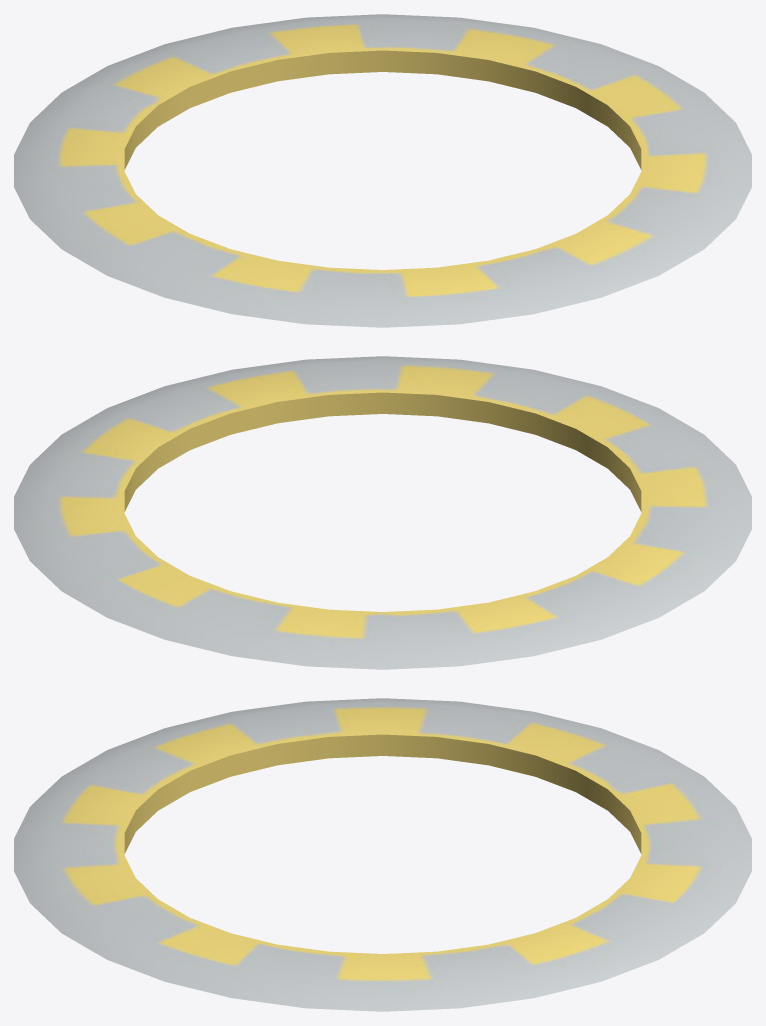
File: CHAKRAM.fbx
3 renders of one model, top to bottom at view 1: azimuth 30°, elevation 25°; view 2: azimuth 150°, elevation 25°; view 3: azimuth 270°, elevation 25°, orthographic.
Visible parts, largest first — view 1: Torus; view 2: Torus; view 3: Torus.
Part boxes in pixels (bbox=[...]): Torus: bbox=[14, 14, 751, 327]; Torus: bbox=[14, 356, 751, 669]; Torus: bbox=[14, 698, 751, 1011].
Bounding box in the file's own units: 28.7 × 0.9136 × 28.54.
Materials: 1 (1 with a texture image).
